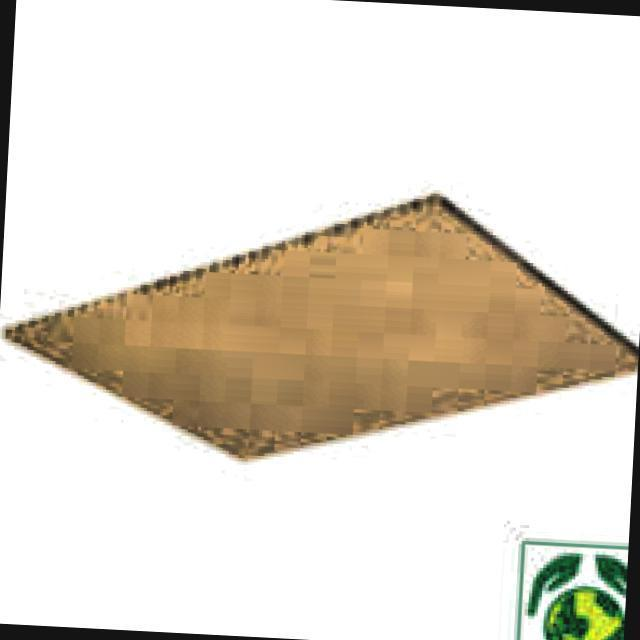cardboard: (0, 171, 640, 488)
